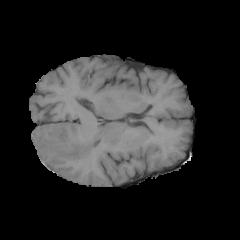glioma: (54, 128, 96, 162)
